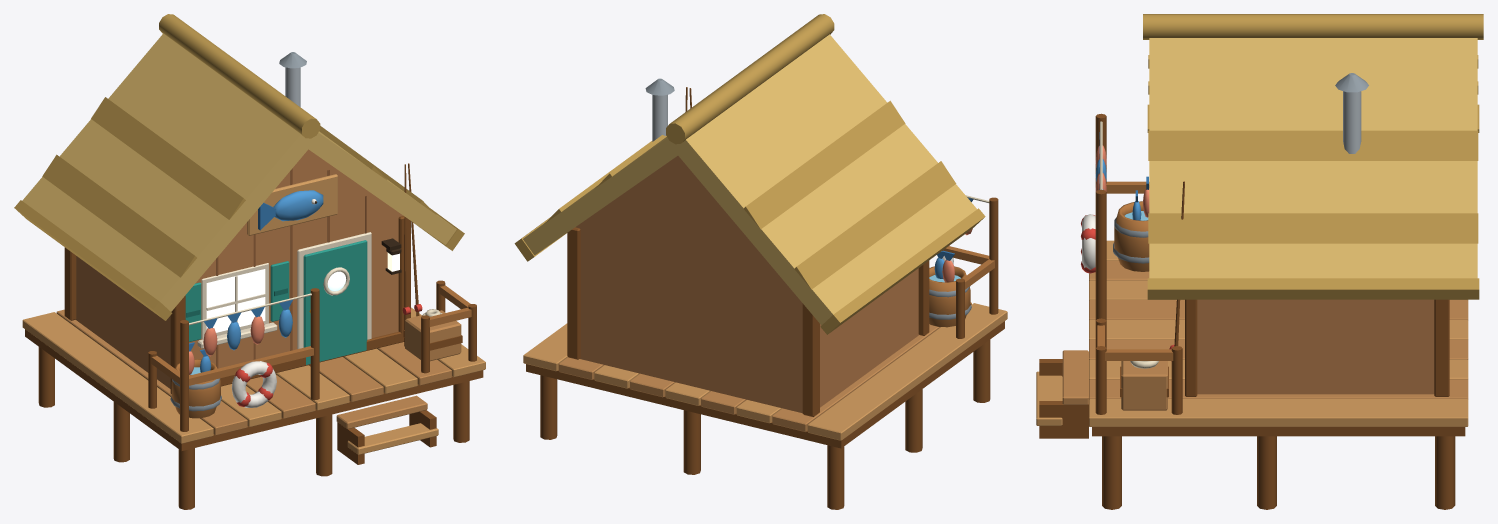
Rendered from fishing-hut.glb.
3 views of the same model, side by side, from view 1: azimuth 30°, elevation 25°; view 2: azimuth 150°, elevation 25°; view 3: azimuth 270°, elevation 25° (orthographic). The views are drawn at different scales.
Visible parts, largest first — view 1: FishingHut_Body; view 2: FishingHut_Body; view 3: FishingHut_Body.
Boxes of the visible parts, x1,y1,x2,y2 form: FishingHut_Body: [14, 14, 485, 509]; FishingHut_Body: [514, 14, 1007, 509]; FishingHut_Body: [1036, 14, 1483, 509].
Size of the model in its own units: 2.77 by 2.93 by 2.89.
